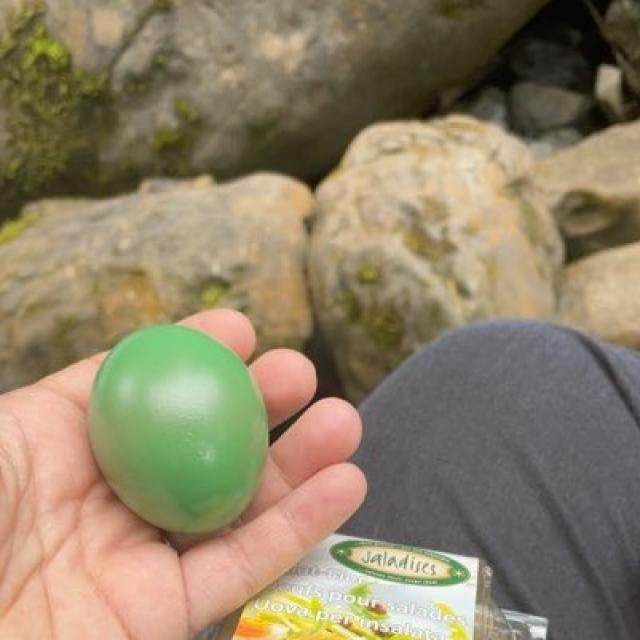egg: (77, 323, 264, 545)
